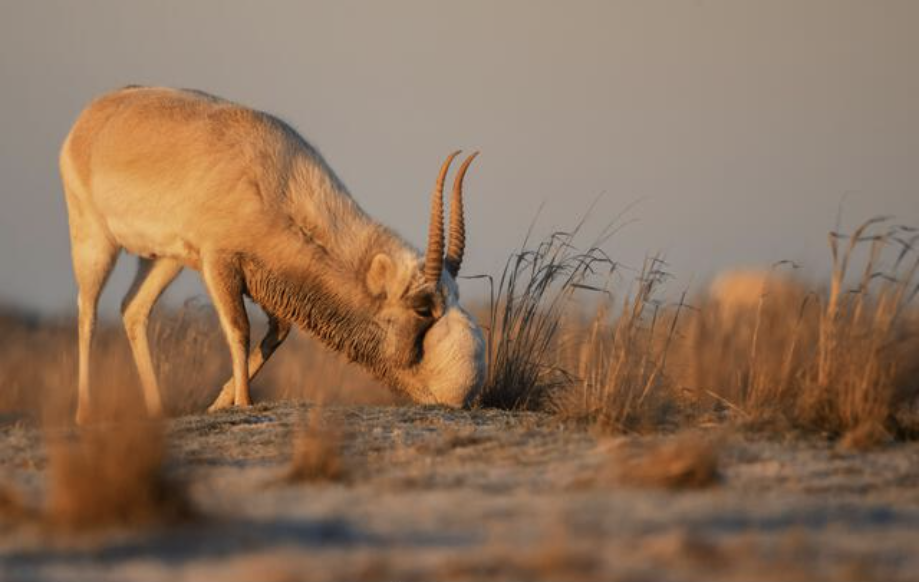saiga: (56, 81, 487, 446)
